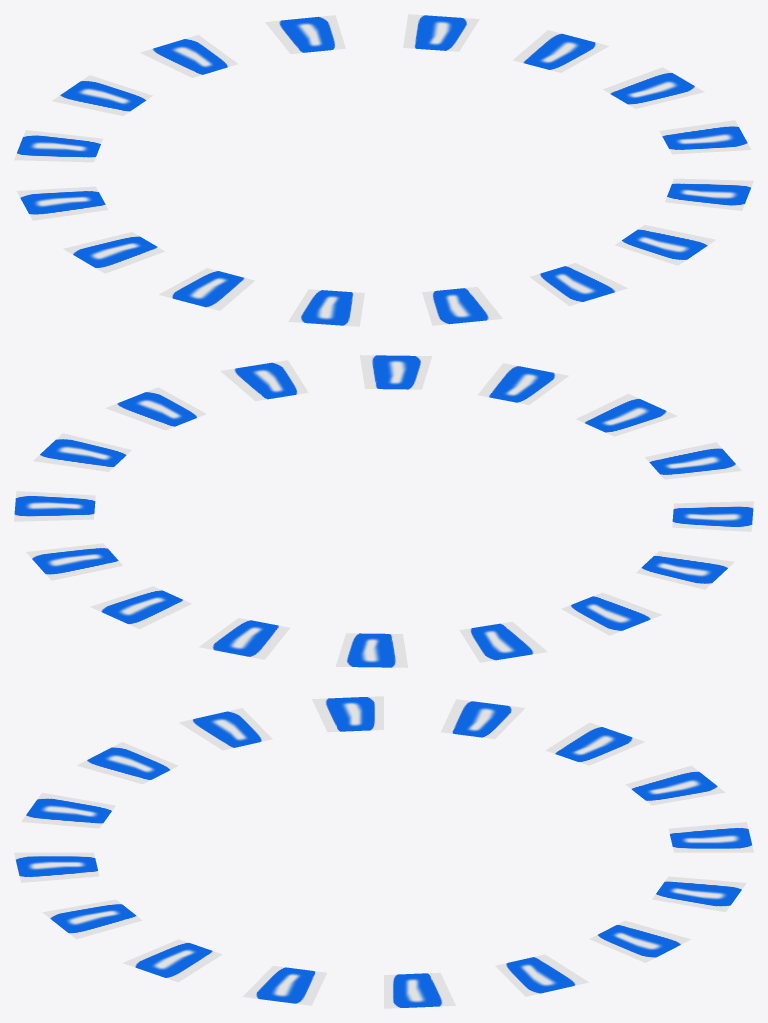
Rendered from repair_system.obj.
3 renders of one model, top to bottom at view 1: azimuth 30°, elevation 25°; view 2: azimuth 150°, elevation 25°; view 3: azimuth 270°, elevation 25°, orthographic.
Parts seen in each view (by area): view 1: Circle; view 2: Circle; view 3: Circle.
Boxes of the visible parts, <box> form: Circle: <box>14,14,753,326</box>; Circle: <box>14,355,753,667</box>; Circle: <box>14,696,753,1008</box>.
Size of the model in its own units: 16 by 0 by 16.
1 material, 1 textured.
